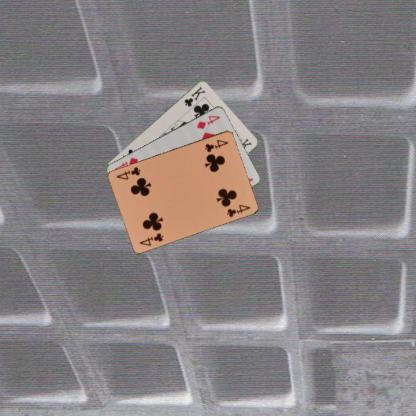4c: (137, 230, 165, 247), (203, 137, 230, 153)
4d: (194, 113, 221, 130)
Kc: (181, 84, 207, 107)
